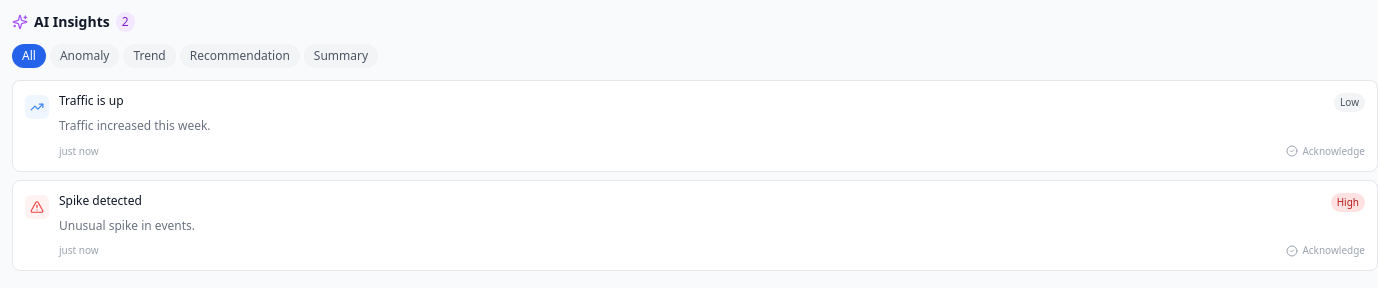
Scenario: InsightsPanel › filters full insights by type
Expected: the heading "AI Insights" is shown, x1=34 y1=12 x2=110 y2=32
Expected: the text "Traffic is up" is shown, x1=59 y1=93 x2=124 y2=109
Click the button "anomaly".
click(85, 56)  # box x1=50 y1=44 x2=119 y2=68
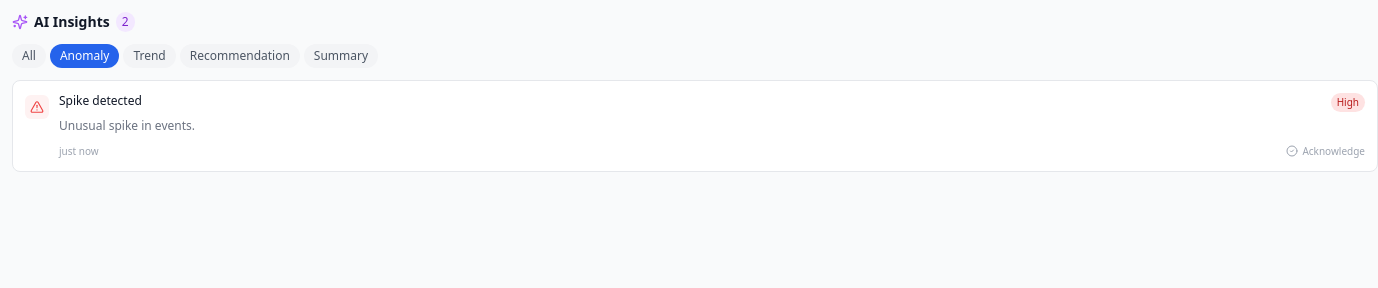
Expected: the text "Spike detected" is shown, x1=59 y1=93 x2=142 y2=109
Now the text "Traffic is up" is gone
